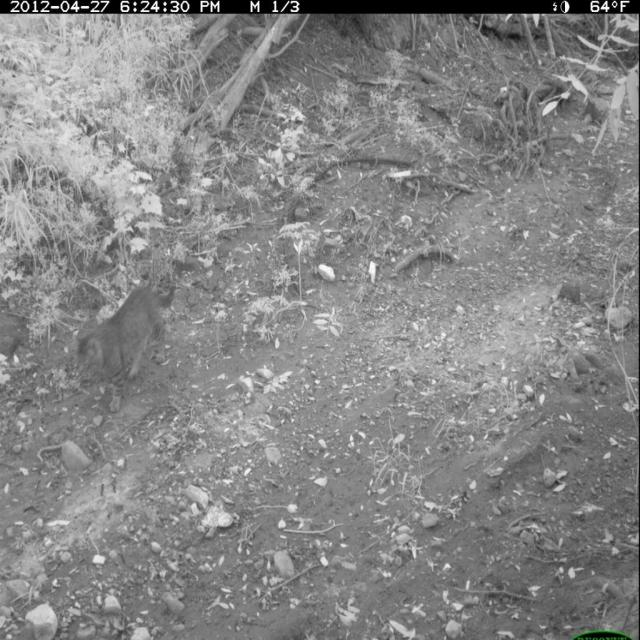cat: (70, 278, 181, 420)
